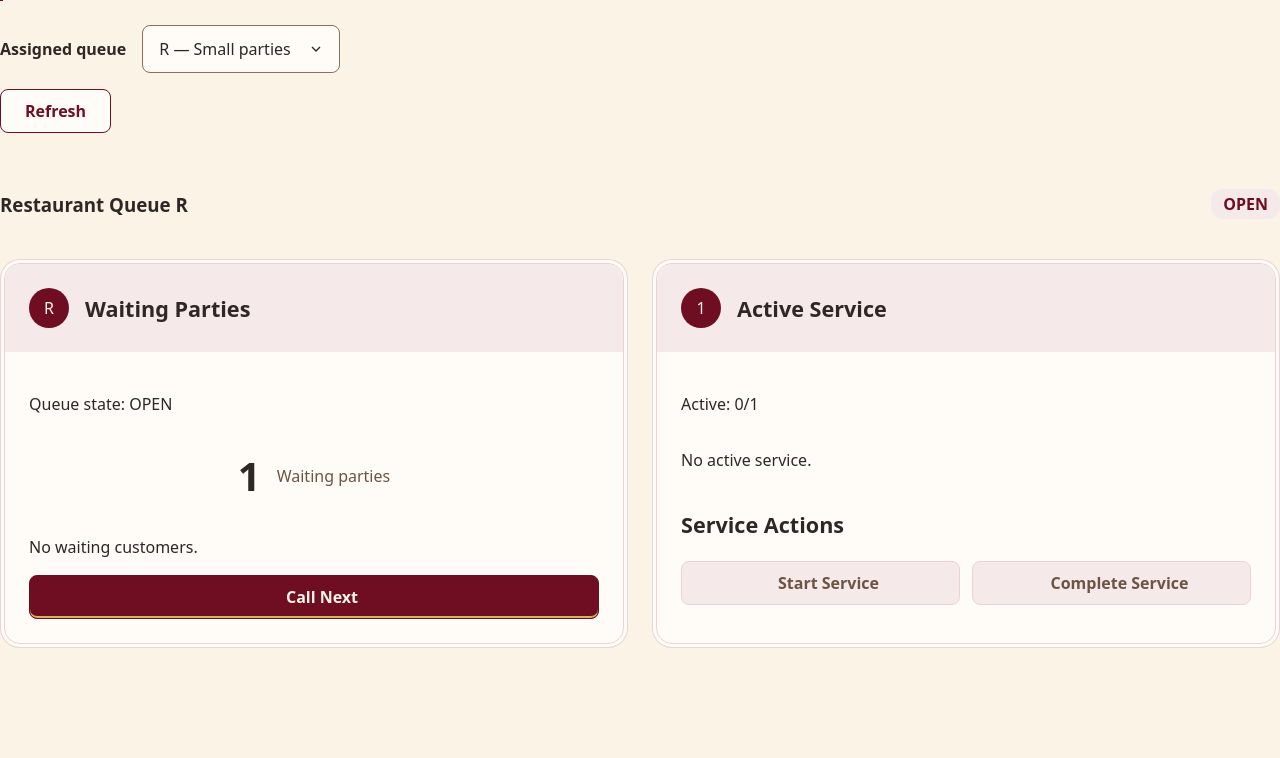
Test: L7-001 L7-002 the desk renders a supplied shared assignment list and selects the correct queue
Expected: the heading "Restaurant Queue R" is shown, x1=0 y1=192 x2=188 y2=217
Select "S — Large parties" in the dropdown labelled "Assigned queue" at [241, 49], box x1=142 y1=25 x2=340 y2=73
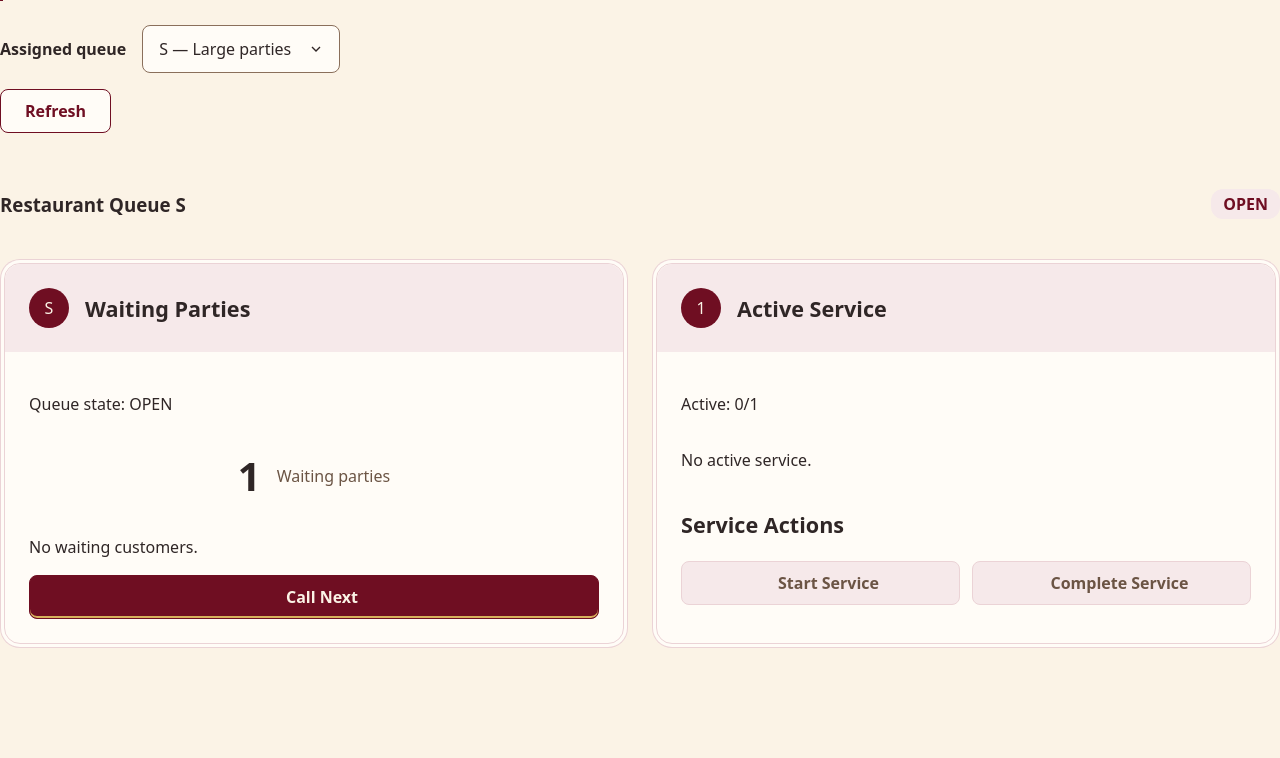
Expected: the heading "Restaurant Queue S" is shown, x1=0 y1=192 x2=186 y2=217
Click the button "Call Next" at [314, 597], box x1=29 y1=575 x2=599 y2=619
(page scrolled)
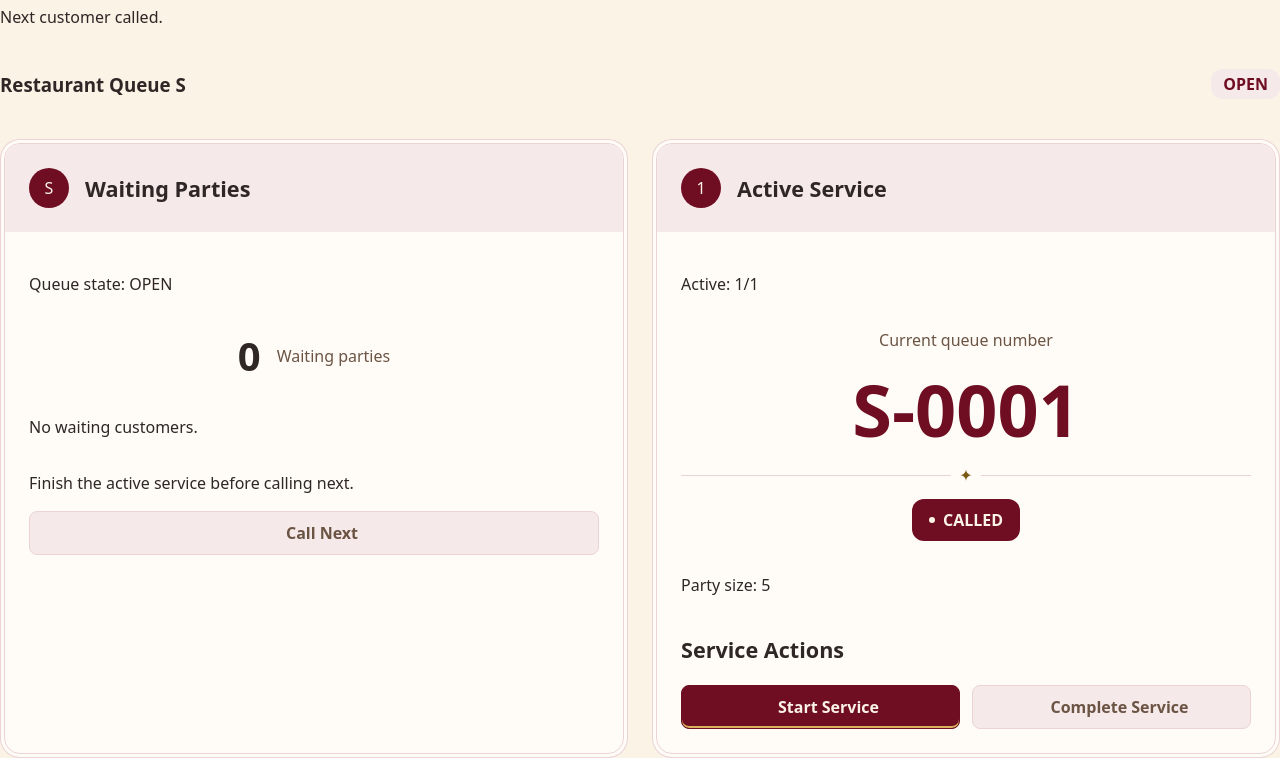
Expected: the text "S-0001" is shown, x1=852 y1=360 x2=1080 y2=458
Expected: the button "Start Service" is enabled
Click the button "Start Service" at [820, 707], box x1=681 y1=685 x2=960 y2=729
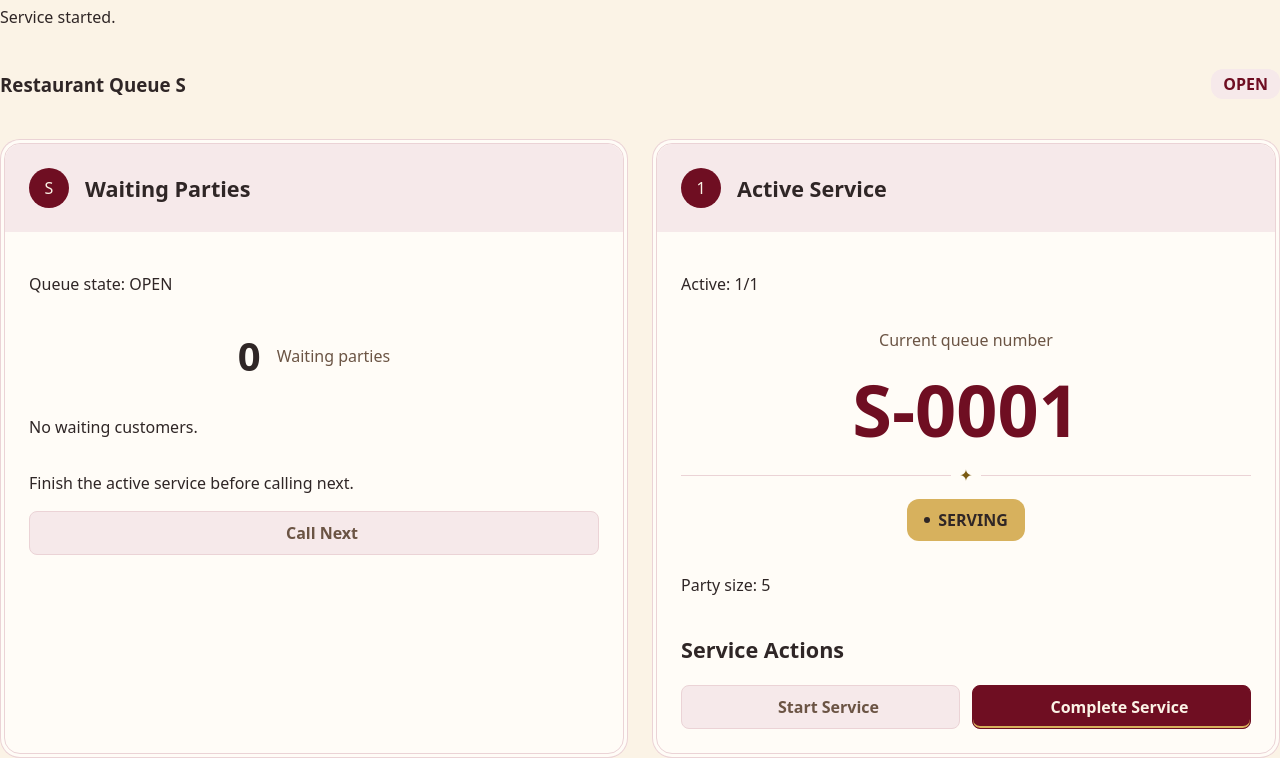
Expected: the text "SERVING" is shown, x1=907 y1=499 x2=1025 y2=541
Expected: the button "Complete Service" is enabled
Click the button "Complete Service" at [1112, 707], box x1=972 y1=685 x2=1251 y2=729
(page scrolled)
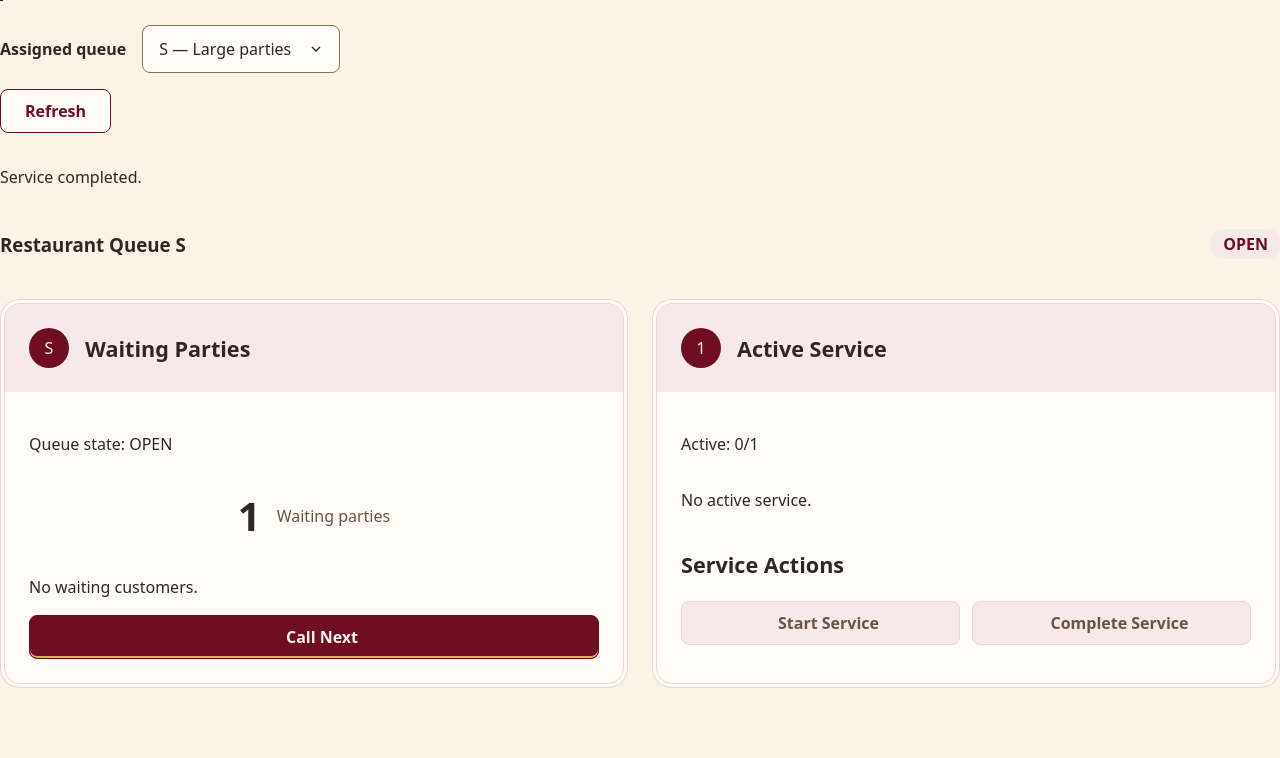
Expected: the text "Service completed." is shown, x1=0 y1=166 x2=142 y2=188
